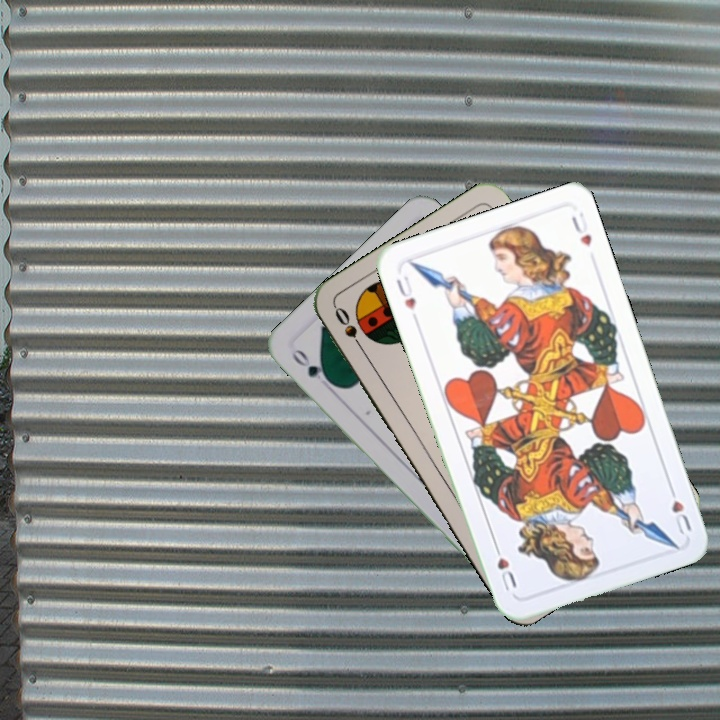GO: (287, 345, 337, 390)
HU: (665, 480, 694, 537), (392, 271, 419, 313)
SO: (330, 302, 368, 356)
